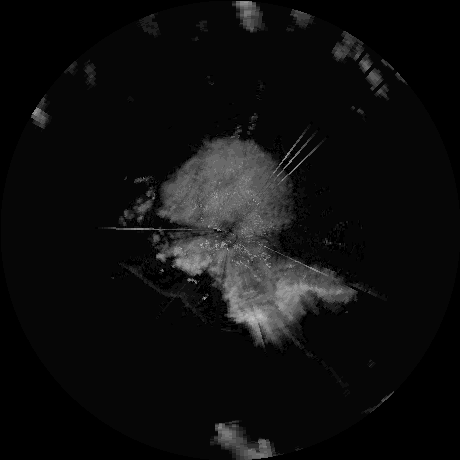frontgust: (122, 265, 202, 317)
